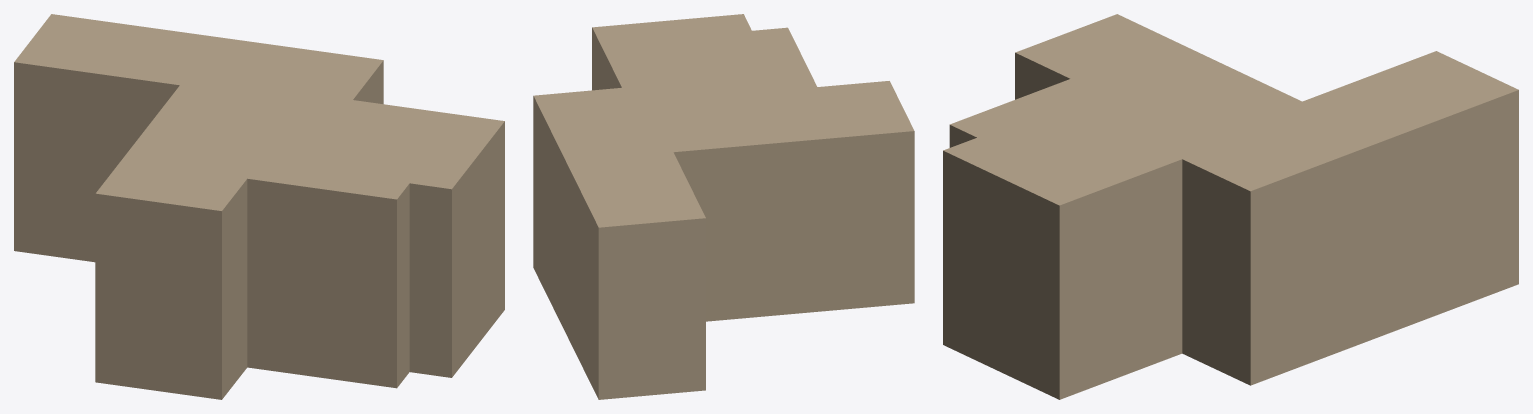
The model's file is bld_106306683.dae.
The picture shows the model from 3 angles, left to right: view 1: azimuth 30°, elevation 25°; view 2: azimuth 150°, elevation 25°; view 3: azimuth 270°, elevation 25°; orthographic projection. The views are drawn at different scales.
Visible parts, largest first — view 1: bld_106306683; view 2: bld_106306683; view 3: bld_106306683.
Boxes of the visible parts, x1,y1,x2,y2 form: bld_106306683: (14, 14, 504, 399); bld_106306683: (533, 14, 914, 399); bld_106306683: (943, 14, 1518, 399).
Bounding box in the file's own units: 16.91 × 21.48 × 8.
